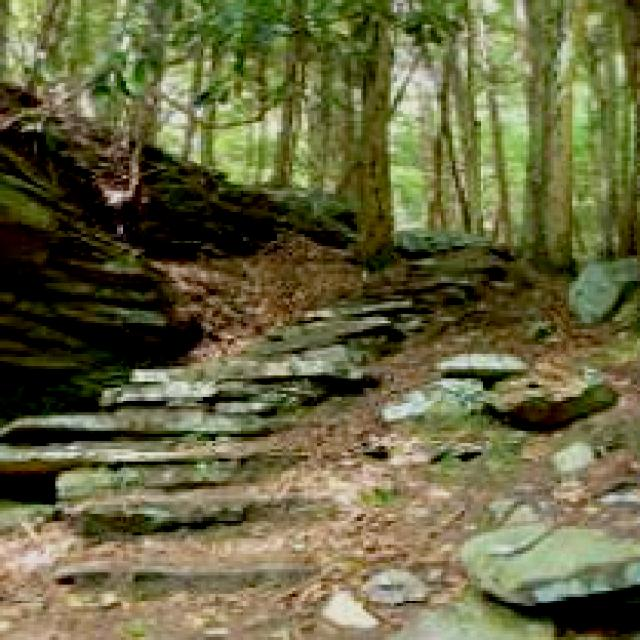upstair: (1, 296, 306, 524)
